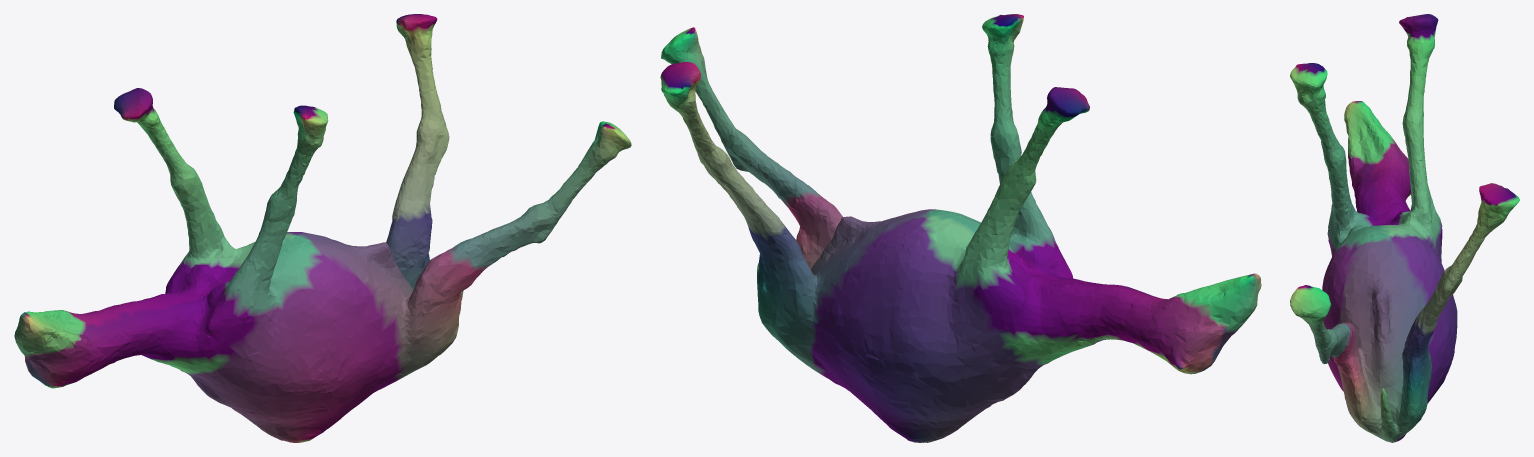
Rendered from camel-5.off.obj.
3 renders of one model, left to right at view 1: azimuth 30°, elevation 25°; view 2: azimuth 150°, elevation 25°; view 3: azimuth 270°, elevation 25°, orthographic. The views are drawn at different scales.
Bounding box in the file's own units: 1.67 × 1.04 × 0.6087.
